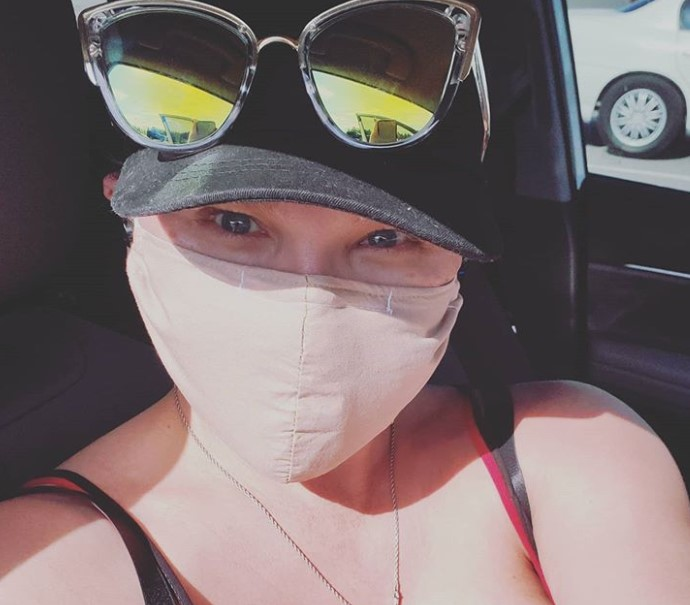face_with_mask: (76, 7, 498, 481)
